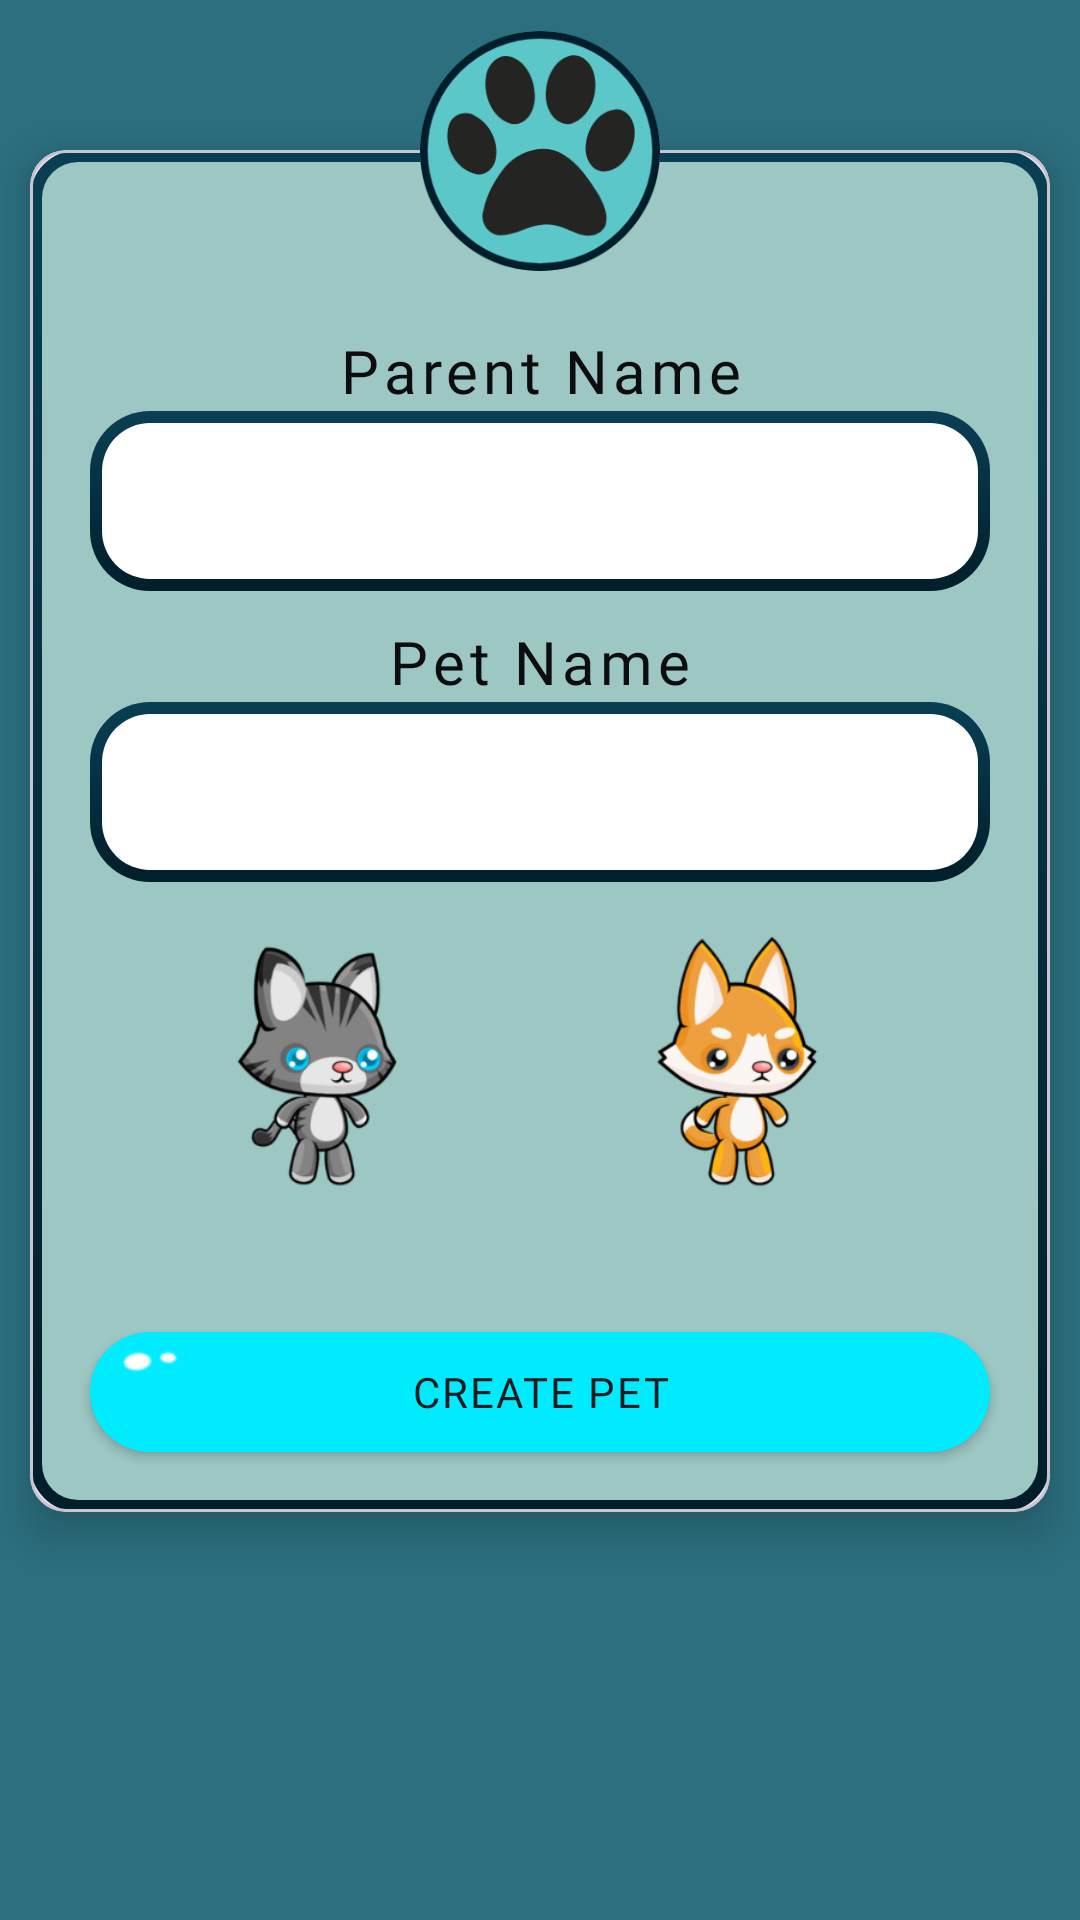

Icon click points for this 1080*1920 phone screenshot, format (x=x, y=y):
pawprint: (x=540, y=151)
sel cat: (x=317, y=1066)
sel dog: (x=737, y=1061)
